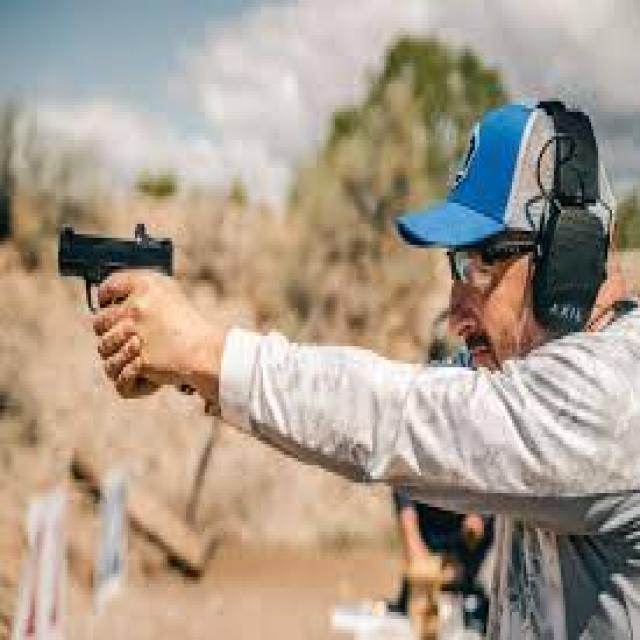weapons: (43, 205, 190, 382)
